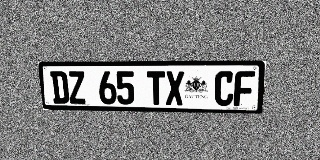5: (116, 71, 135, 105)
6: (98, 71, 117, 104)
C: (214, 71, 235, 106)
D: (50, 71, 70, 104)
F: (233, 71, 255, 106)
T: (147, 71, 165, 105)
X: (166, 71, 184, 105)
Z: (67, 71, 87, 104)
